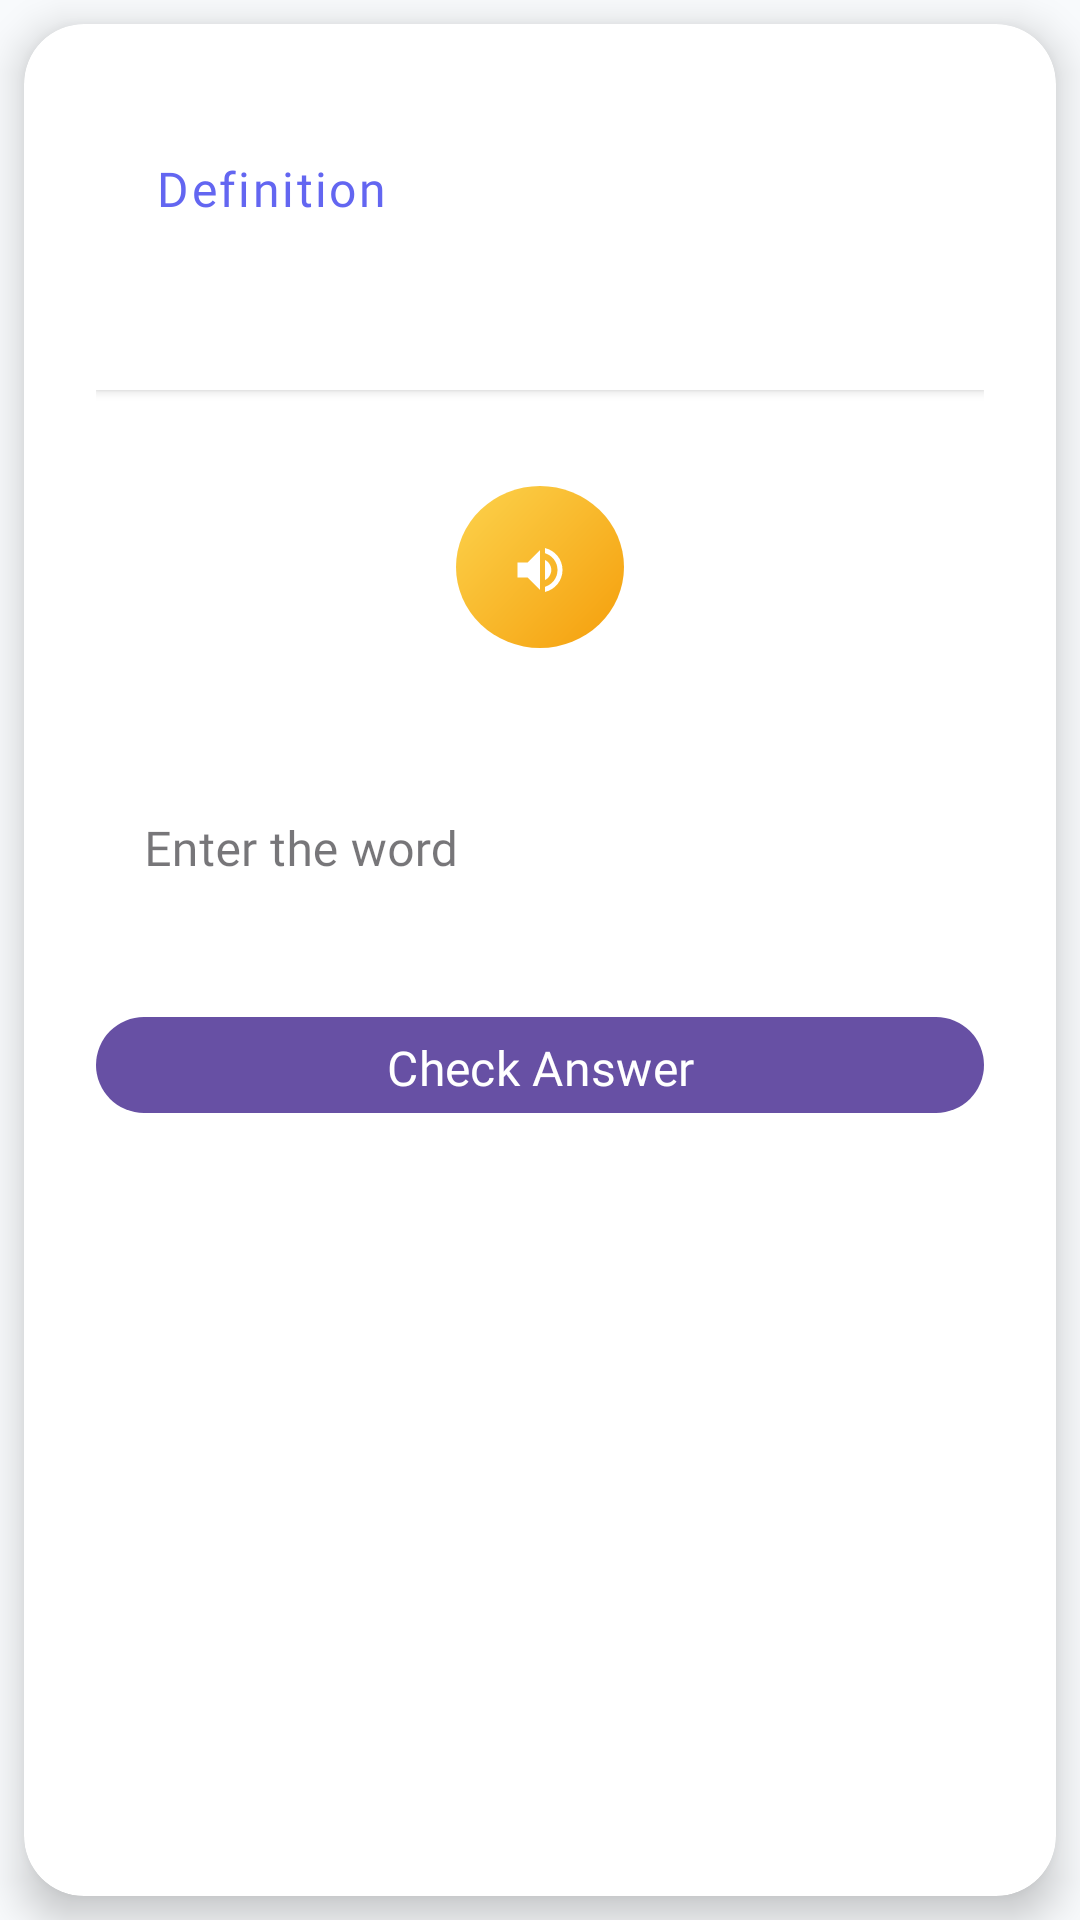

Screen size 1080×1920. Icon name, then its center in pixels as [x,y]:
Play pronunciation audio: [540,570]
